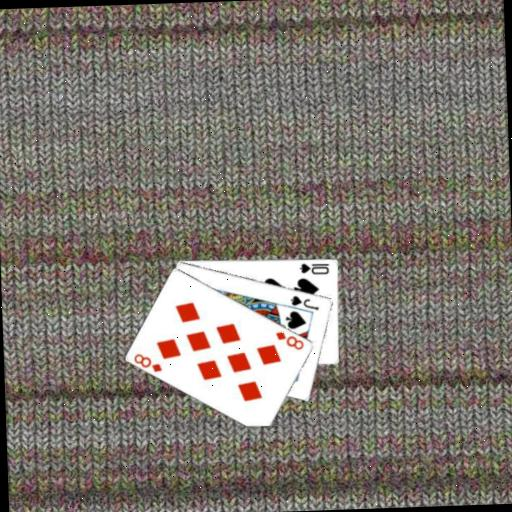10S: (296, 259, 331, 276)
8D: (273, 327, 306, 352), (131, 349, 164, 374)
JS: (287, 291, 320, 312)
